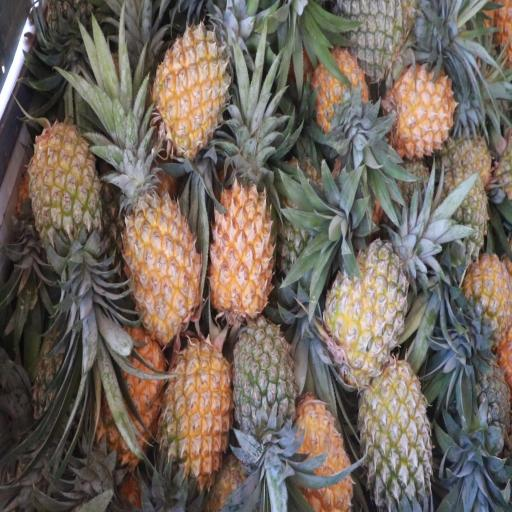------------------------------: (360, 366, 429, 511), (329, 248, 403, 378)
Pineapple - v8 v1: (122, 176, 197, 344), (31, 124, 98, 268), (153, 32, 226, 158), (164, 345, 230, 483), (212, 180, 273, 328), (104, 337, 167, 458), (293, 406, 352, 512), (393, 70, 452, 155), (313, 60, 370, 146), (459, 251, 510, 344)
